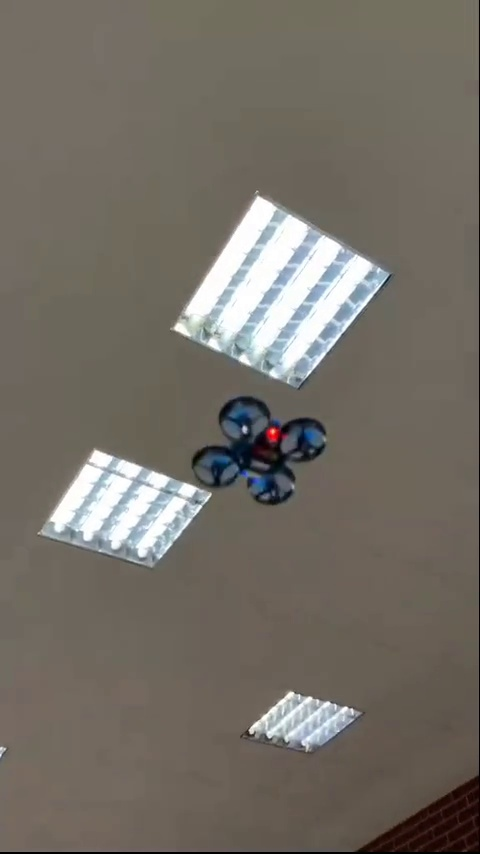drone: (192, 399, 332, 511)
